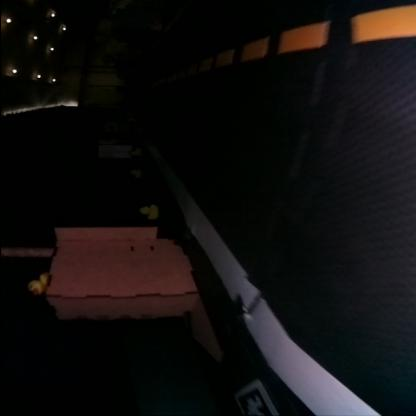Duckie: (27, 274, 46, 293), (138, 205, 157, 217), (130, 168, 138, 174), (131, 148, 137, 154)
QR code: (232, 382, 276, 415)
